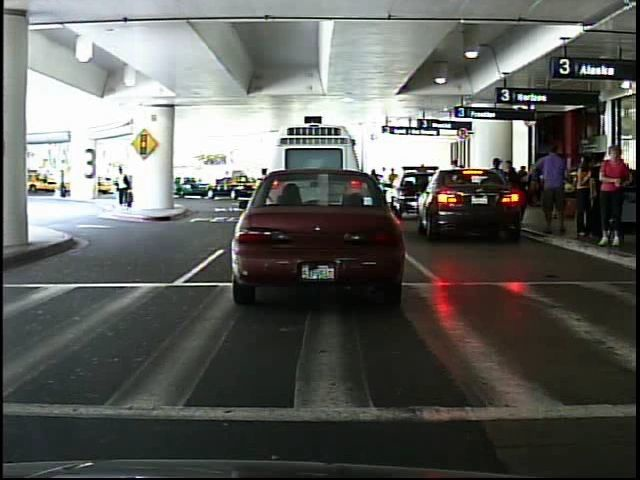person: (597, 141, 631, 252), (107, 158, 140, 212), (57, 164, 73, 202)
